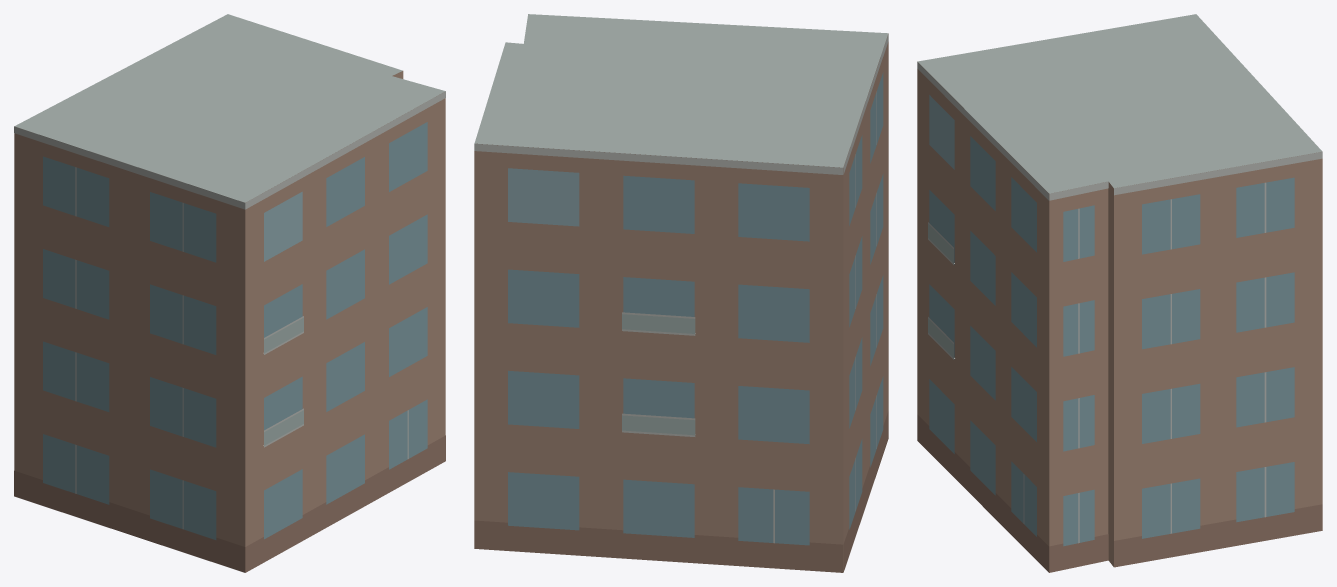
File: survey-upis-32859506.glb
3 views of the same model, side by side, from view 1: azimuth 30°, elevation 25°; view 2: azimuth 150°, elevation 25°; view 3: azimuth 270°, elevation 25° (orthographic). The views are drawn at different scales.
Visible parts, largest first — view 1: survey-upis-32859506.tmp; view 2: survey-upis-32859506.tmp; view 3: survey-upis-32859506.tmp.
Boxes of the visible parts, bbox=[...] form: survey-upis-32859506.tmp: bbox=[14, 14, 445, 572]; survey-upis-32859506.tmp: bbox=[474, 14, 888, 572]; survey-upis-32859506.tmp: bbox=[917, 14, 1322, 572].
Bounding box in the file's own units: 13.49 × 13.25 × 12.85.
